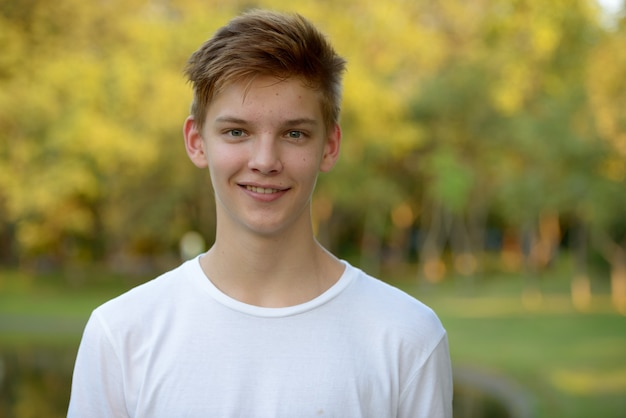teen: (178, 10, 354, 253)
